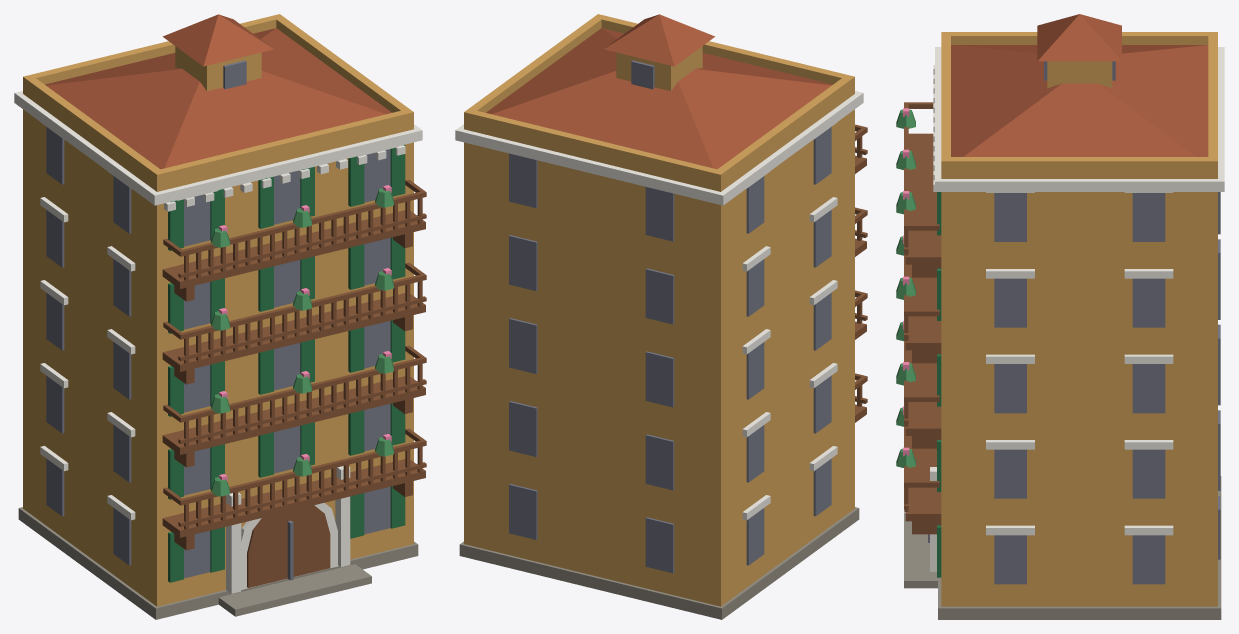
File: house-1x1-5f-colonial-a.glb
The picture shows the model from 3 angles, left to right: view 1: azimuth 30°, elevation 25°; view 2: azimuth 150°, elevation 25°; view 3: azimuth 270°, elevation 25°; orthographic projection. The views are drawn at different scales.
Parts seen in each view (by area): view 1: house-1x1-5f-colonial-a; view 2: house-1x1-5f-colonial-a; view 3: house-1x1-5f-colonial-a.
Part boxes in pixels (x1,y1,x2,y2): house-1x1-5f-colonial-a: [14, 14, 426, 619]; house-1x1-5f-colonial-a: [455, 14, 867, 619]; house-1x1-5f-colonial-a: [896, 14, 1224, 619].
Bounding box in the file's own units: 0.98 × 1.83 × 1.01.
Materials: 1 (1 with a texture image).
